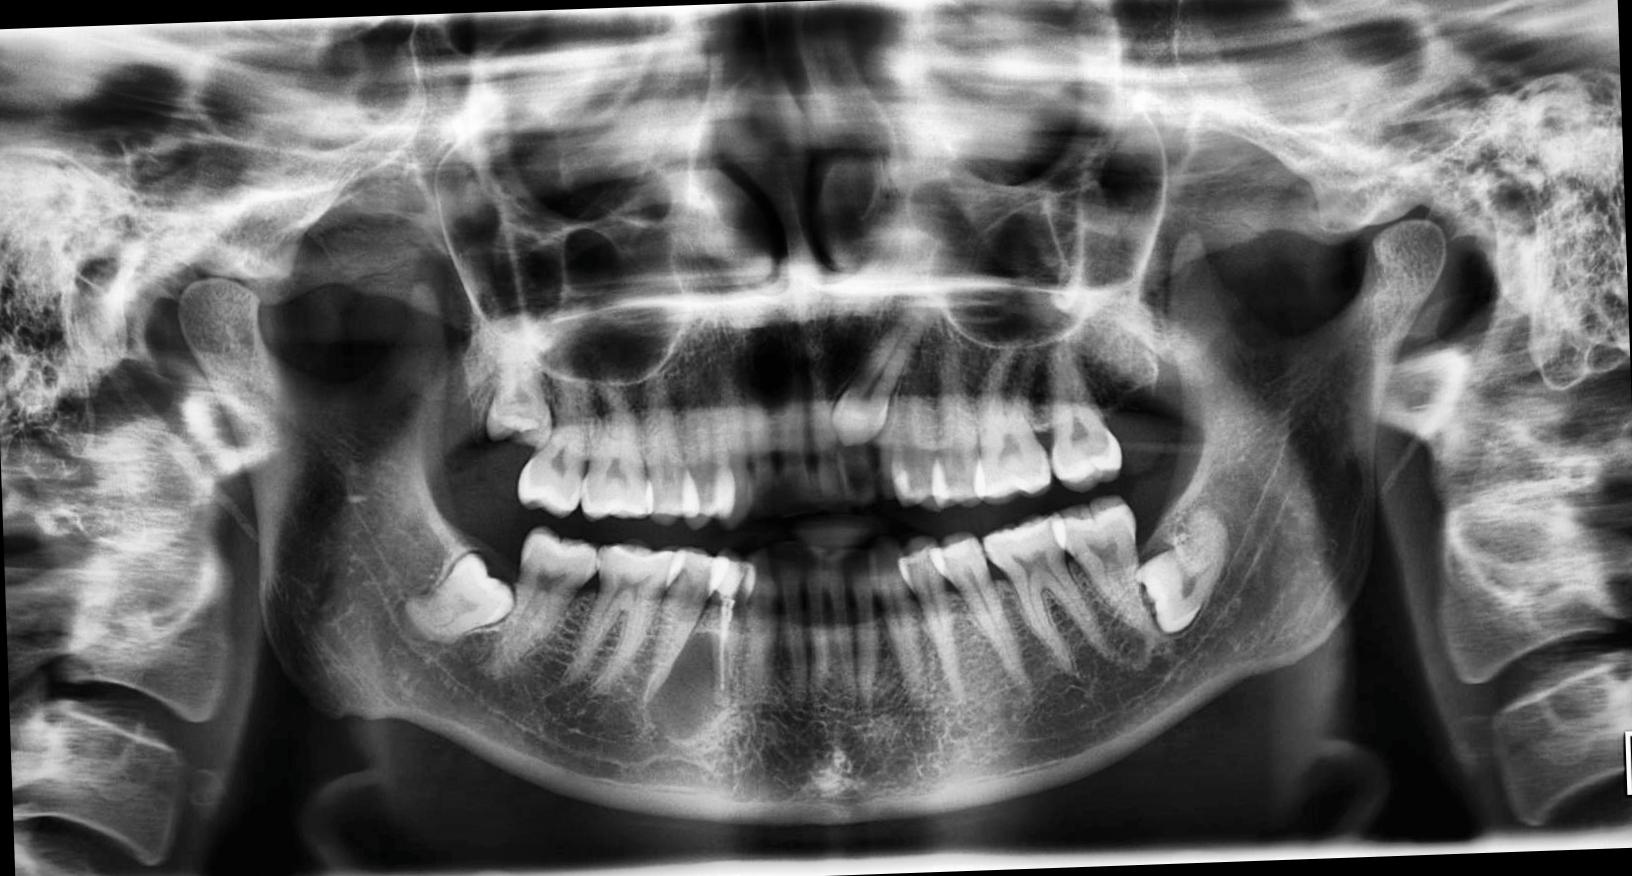radicular: (639, 624, 742, 745)
